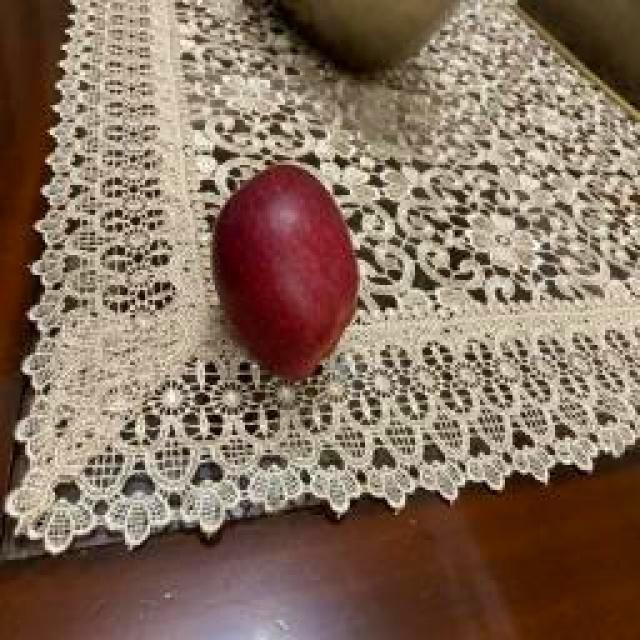apple: (213, 164, 359, 382)
